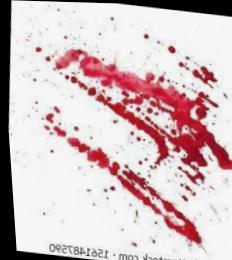Fire: (54, 49, 232, 177), (64, 137, 197, 242), (190, 64, 216, 87), (63, 75, 94, 94), (134, 157, 155, 178), (124, 127, 144, 147), (176, 182, 193, 201), (50, 125, 64, 137), (107, 14, 116, 29), (42, 113, 51, 123), (177, 62, 188, 69), (166, 44, 175, 52), (44, 55, 52, 62), (142, 32, 148, 38), (33, 47, 40, 52), (42, 125, 48, 130), (71, 125, 76, 131), (136, 159, 140, 164), (54, 107, 57, 113), (156, 40, 159, 42)
